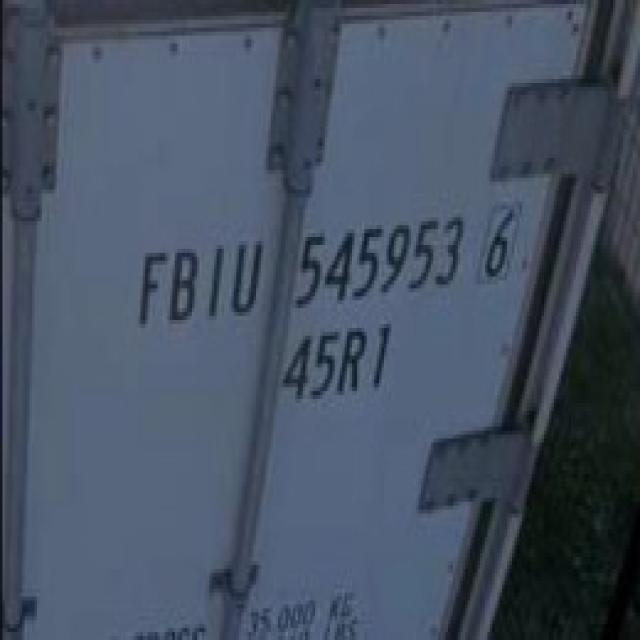dv: (478, 201, 522, 287)
owner: (133, 230, 268, 334)
serial: (293, 211, 467, 315)
size: (278, 316, 393, 418)
